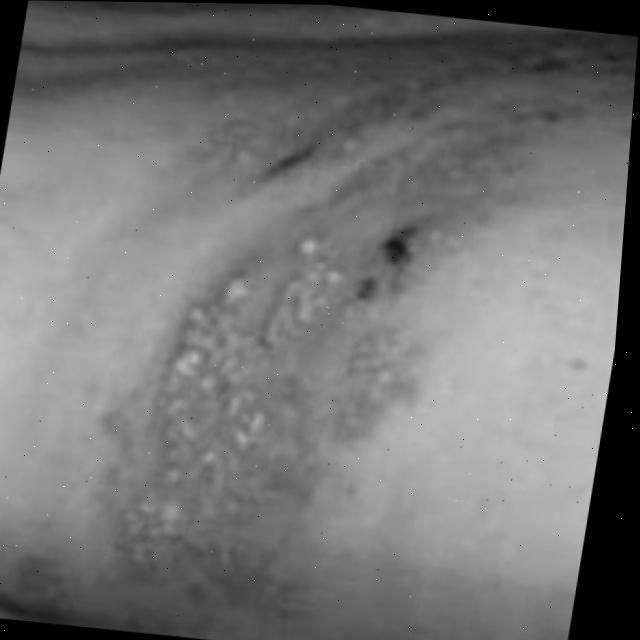Shingles: (104, 224, 413, 609)
